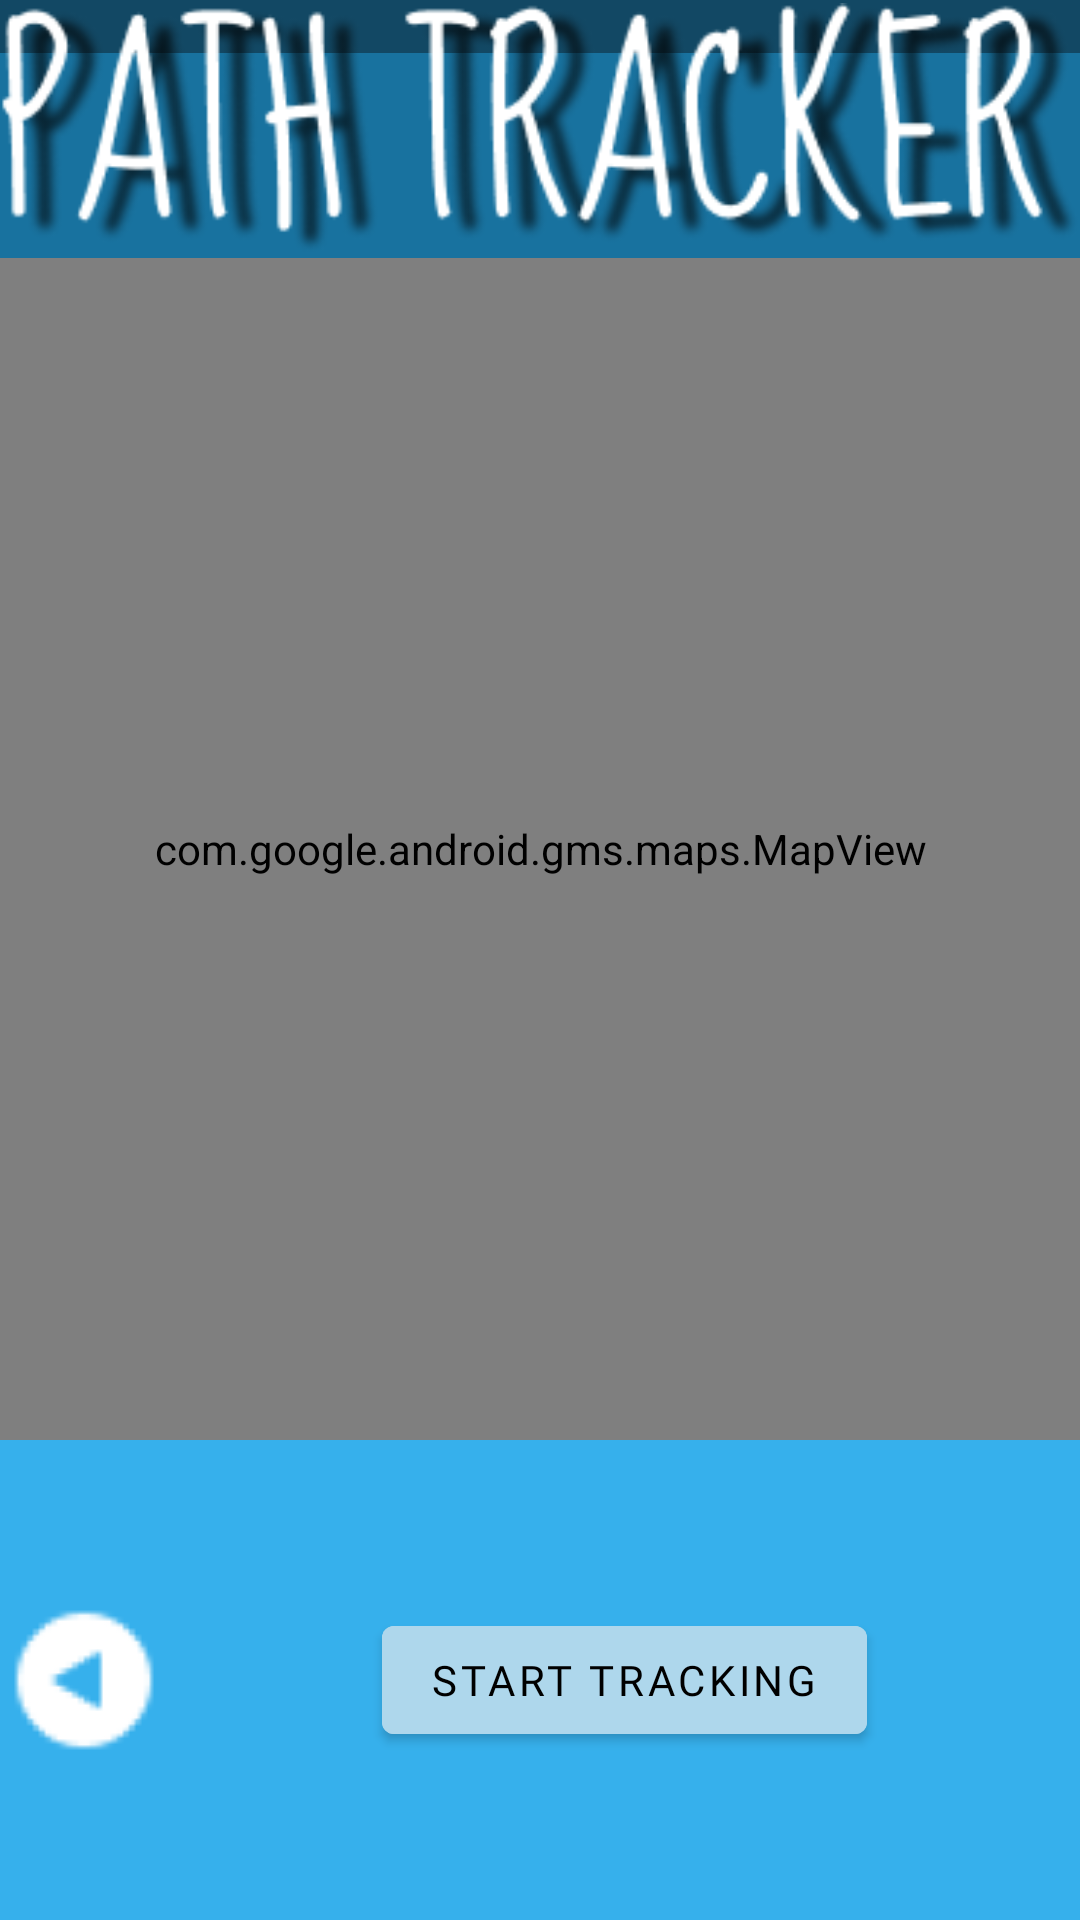

Locate icon controls on the screen. Image size 1080 x 1920, boxes as [x1,y1,x2,y2].
back: [15,1611,153,1749]
